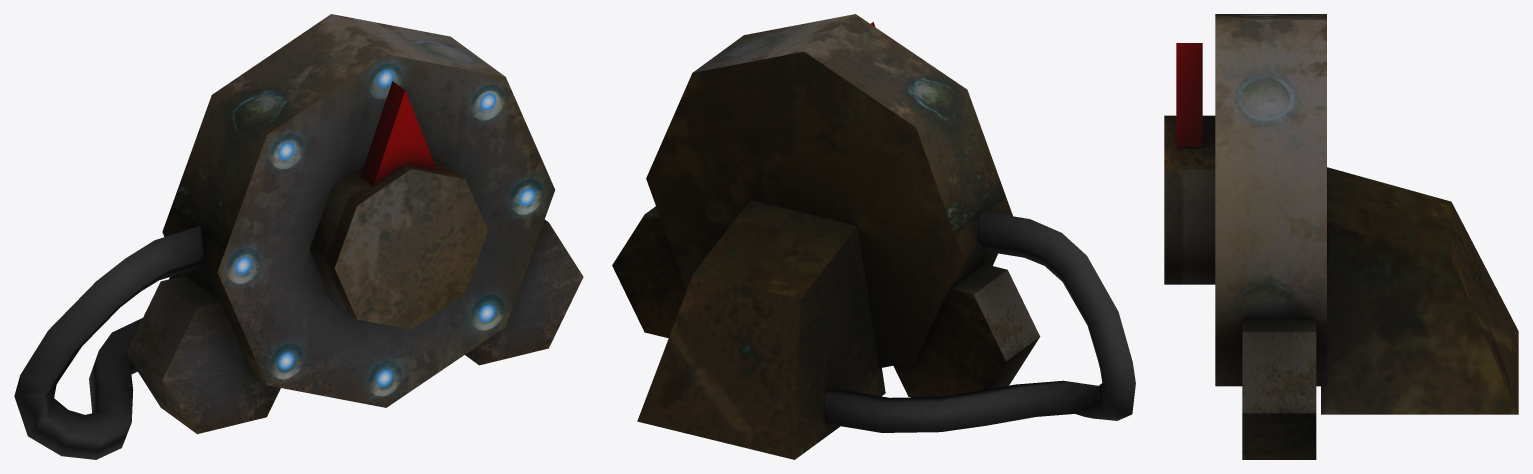
The model's file is BUTTON_TIMER.fbx.
3 renders of one model, left to right at view 1: azimuth 30°, elevation 25°; view 2: azimuth 150°, elevation 25°; view 3: azimuth 270°, elevation 25°, orthographic. The views are drawn at different scales.
Parts seen in each view (by area): view 1: polySurface345, polySurface346; view 2: polySurface345; view 3: polySurface345, polySurface346.
Part boxes in pixels (bbox=[...]): polySurface345: bbox=[14, 14, 583, 459]; polySurface346: bbox=[309, 81, 487, 329]; polySurface345: bbox=[612, 14, 1135, 459]; polySurface345: bbox=[1215, 14, 1518, 459]; polySurface346: bbox=[1164, 43, 1215, 284].
Size of the model in its own units: 9.71 by 6.01 by 5.37.
